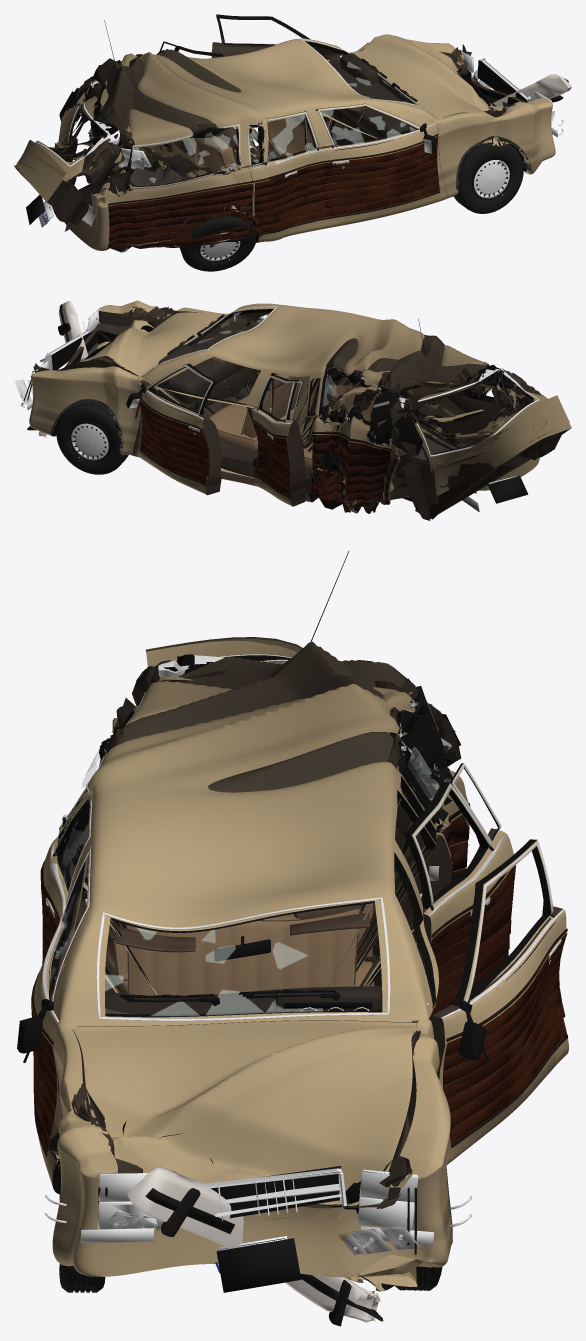
The model's file is wagon82_rear_corner_d3_lod1.glb.
3 renders of one model, top to bottom at view 1: azimuth 30°, elevation 25°; view 2: azimuth 150°, elevation 25°; view 3: azimuth 270°, elevation 25°, orthographic. The views are drawn at different scales.
Parts seen in each view (by area): view 1: Body, Trim, Tailgate, Interior, Trim_FR, Hood, Trim_RR, Wheel_FR_mesh, Door_FR, Wheel_RR_mesh, Ends, Door_RR (+6 smaller); view 2: Body, Tailgate, Interior, Trim, Hood, Trim_FL, Wheel_FL_mesh, Door_FL, Door_RL, Trim_RL, Ends, Glass (+3 smaller); view 3: Body, Hood, Interior, Ends, Trim_FL, Glass, Door_FL, Bumper_F, Trim_RL, Door_RL, Tailgate, Trim_FR (+5 smaller).
Part boxes in pixels (x1,y1,x2,y2): Body: [64, 38, 555, 252]; Trim: [64, 20, 531, 248]; Tailgate: [14, 76, 122, 225]; Interior: [129, 53, 412, 185]; Trim_FR: [318, 104, 439, 218]; Hood: [354, 34, 507, 118]; Trim_RR: [247, 112, 330, 235]; Wheel_FR_mesh: [453, 143, 523, 213]; Door_FR: [317, 103, 447, 226]; Wheel_RR_mesh: [178, 210, 255, 271]; Ends: [26, 50, 563, 227]; Door_RR: [248, 111, 329, 241]; Body: [29, 300, 539, 513]; Tailgate: [387, 365, 571, 520]; Interior: [156, 321, 492, 476]; Trim: [50, 314, 479, 512]; Hood: [57, 312, 225, 376]; Trim_FL: [126, 364, 212, 486]; Wheel_FL_mesh: [56, 402, 128, 474]; Door_FL: [137, 363, 221, 495]; Door_RL: [252, 374, 305, 506]; Trim_RL: [252, 375, 302, 498]; Ends: [15, 307, 528, 503]; Glass: [152, 306, 489, 444]; Body: [44, 641, 469, 1291]; Hood: [72, 1020, 420, 1204]; Interior: [105, 902, 382, 1014]; Ends: [44, 1166, 471, 1292]; Trim_FL: [427, 841, 567, 1147]; Glass: [61, 686, 452, 1020]; Door_FL: [429, 839, 568, 1164]; Bumper_F: [127, 1166, 383, 1326]; Trim_RL: [412, 763, 515, 1016]; Door_RL: [404, 781, 513, 985]; Tailgate: [132, 637, 468, 845]; Trim_FR: [17, 849, 90, 1156].
Bounding box in the file's own units: 5.05 × 2.03 × 2.34.
Materials: 34 (6 with a texture image).
